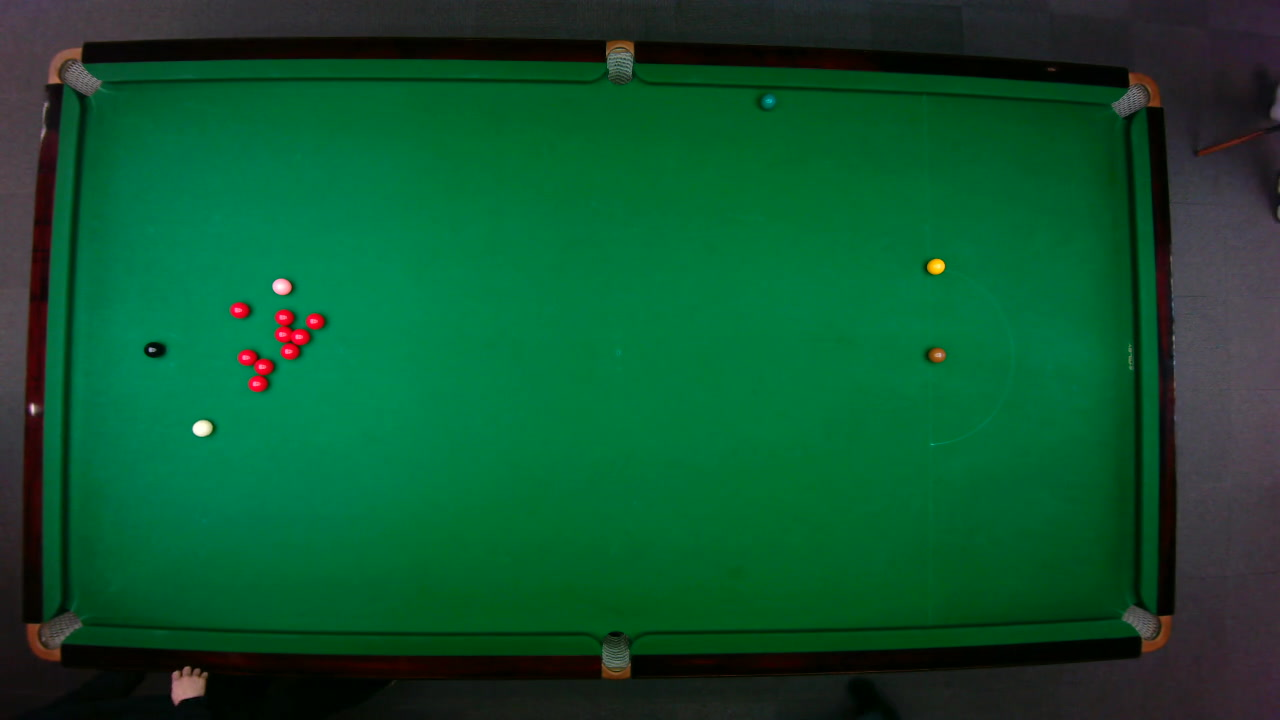bag: (25, 609, 83, 661), (45, 46, 101, 96), (1119, 603, 1171, 652), (1109, 71, 1161, 118), (600, 629, 629, 680), (605, 38, 633, 85)
black: (142, 340, 164, 358)
brown: (926, 346, 946, 362)
green: (758, 92, 776, 110)
pink: (270, 276, 292, 295)
red: (235, 347, 258, 366), (252, 356, 274, 375), (228, 300, 250, 318), (288, 327, 310, 345), (304, 311, 324, 330), (273, 307, 294, 325), (246, 375, 268, 392), (279, 342, 300, 359), (273, 325, 293, 342)
white: (190, 417, 214, 437)
yellow: (925, 257, 945, 274)
zone: (927, 265, 1013, 445)
